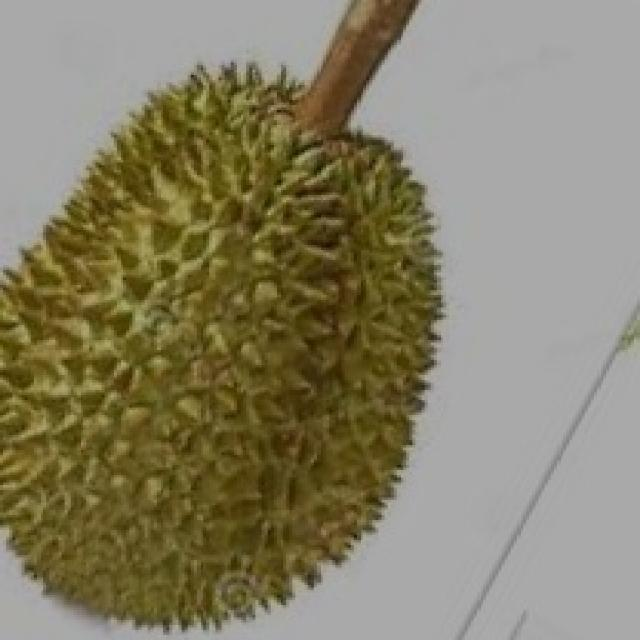fruit: (3, 277, 384, 640)
